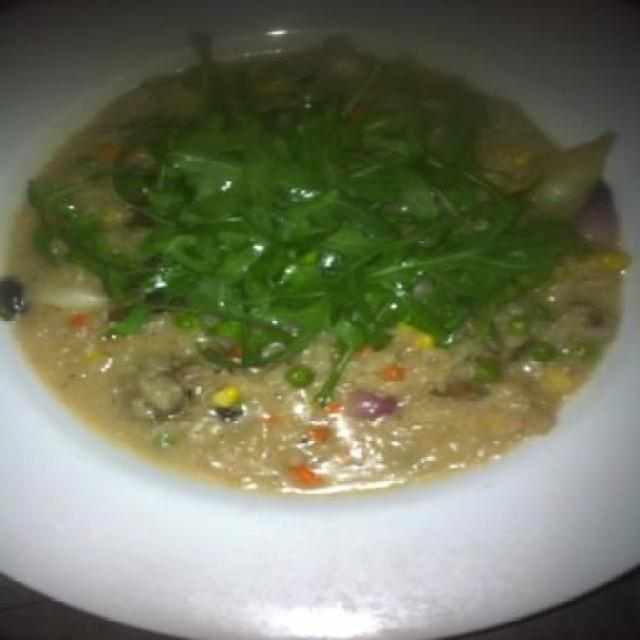Risotto: (39, 72, 616, 503)
